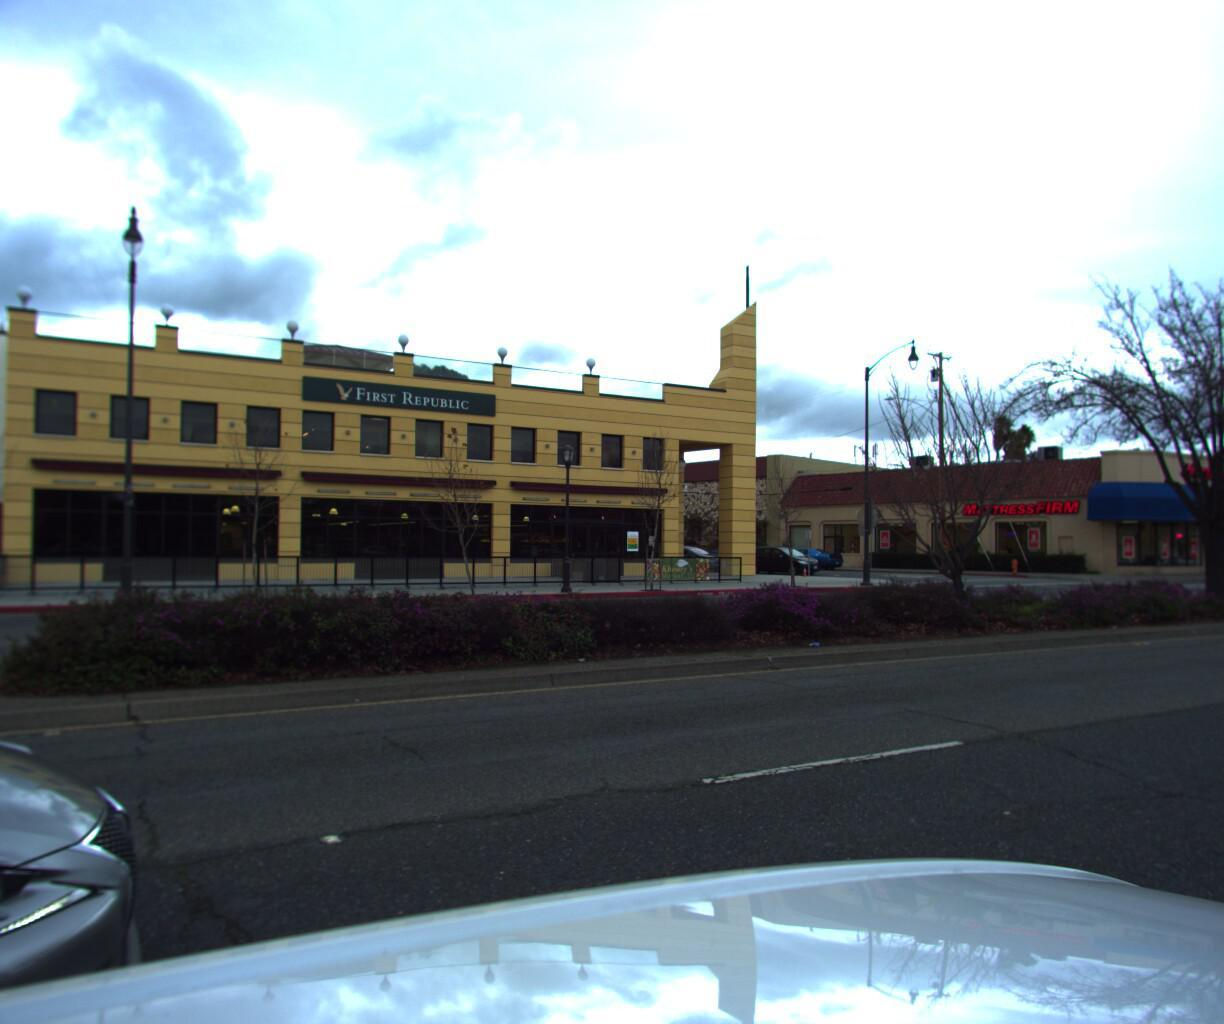car: (739, 543, 825, 571), (764, 544, 844, 567)
